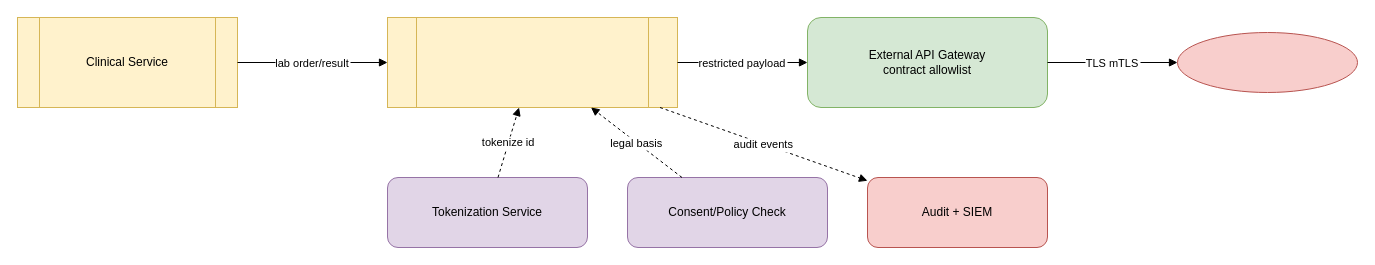
This 1375x265 diagram has some shape labels left out. The shapes that lost their labels are listed below. From the top down, each one's box as (x1, y1, x2, y2) in pixels, then its label:
(386, 16, 678, 108): Lab Integration Service Операции: tokenize, validate, route
(1176, 32, 1358, 92): Лаборатория
